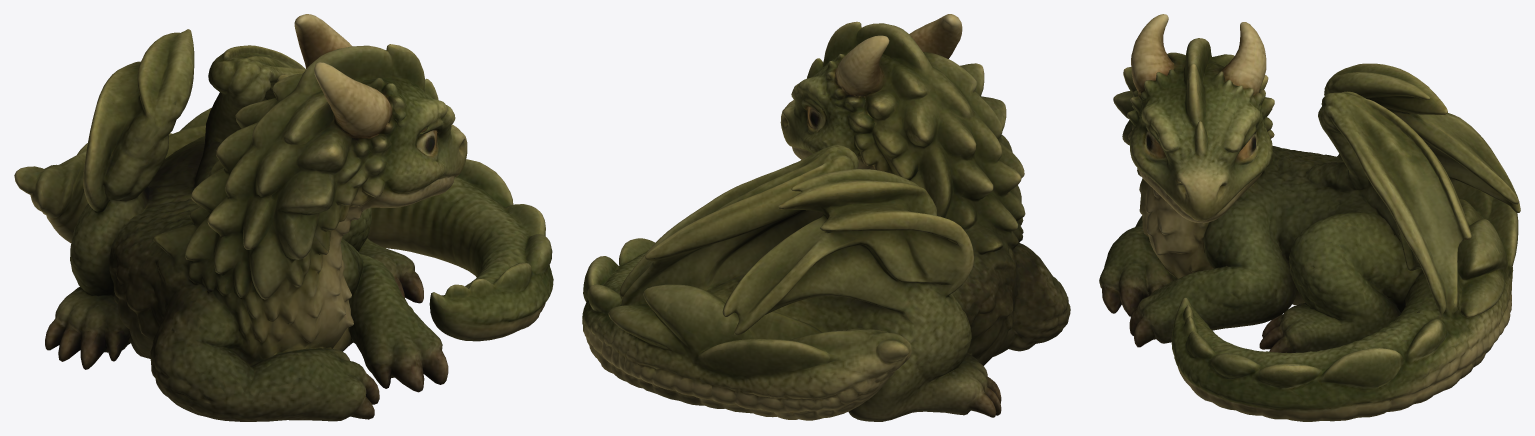
Rendered from generation_dragon_0.glb.
3 renders of one model, left to right at view 1: azimuth 30°, elevation 25°; view 2: azimuth 150°, elevation 25°; view 3: azimuth 270°, elevation 25°, orthographic. The views are drawn at different scales.
Parts seen in each view (by area): view 1: geometry_0; view 2: geometry_0; view 3: geometry_0.
Part boxes in pixels (box(x1,y1,x2,y2)): geometry_0: box(14, 14, 553, 421); geometry_0: box(582, 14, 1070, 421); geometry_0: box(1099, 14, 1520, 421).
Size of the model in its own units: 0.9985 by 0.7206 by 0.9336.
Materials: 1 (1 with a texture image).
